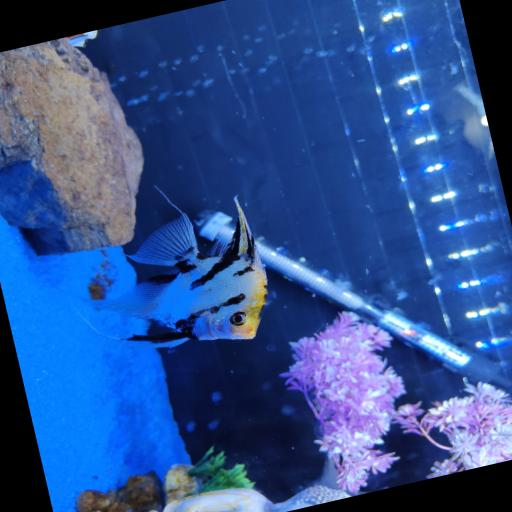Fish: (82, 197, 266, 347), (454, 84, 494, 159), (66, 30, 97, 47)
